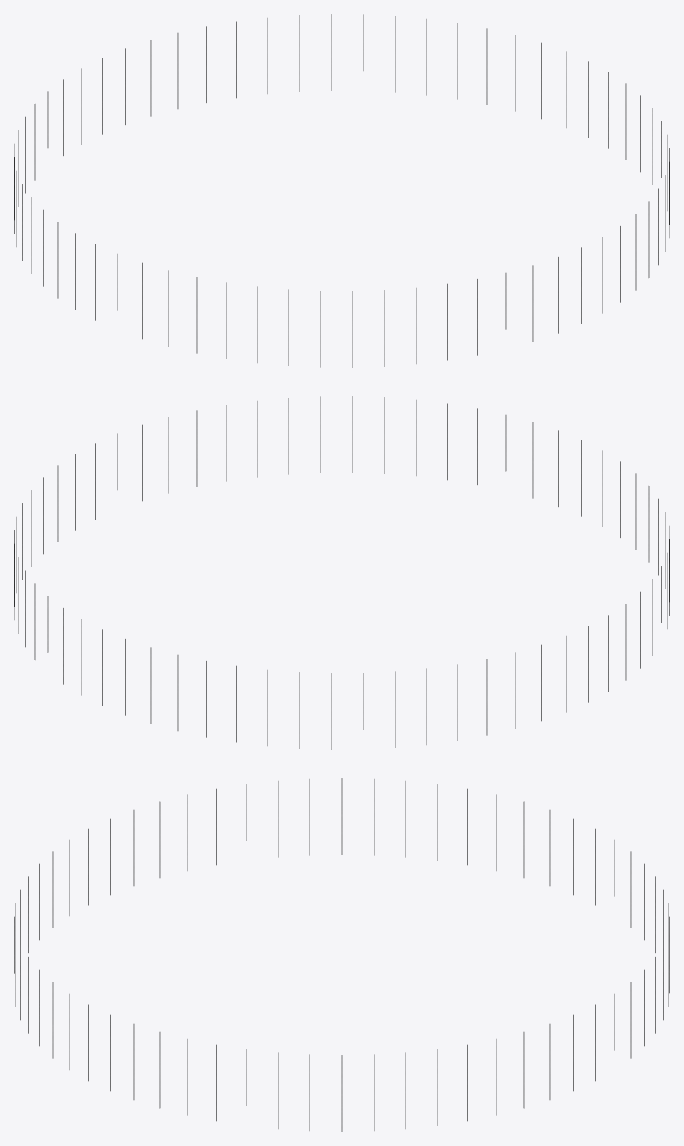
File: Window_supports.glb
3 views of the same model, one above another, from view 1: azimuth 30°, elevation 25°; view 2: azimuth 150°, elevation 25°; view 3: azimuth 270°, elevation 25° (orthographic).
Visible parts, largest first — view 1: Window supports; view 2: Window supports; view 3: Window supports.
Boxes of the visible parts, x1,y1,x2,y2 form: Window supports: (14,14,669,367); Window supports: (14,396,669,749); Window supports: (14,778,669,1131).
Size of the model in its own units: 163 by 21 by 163.
1 material, 1 textured.
